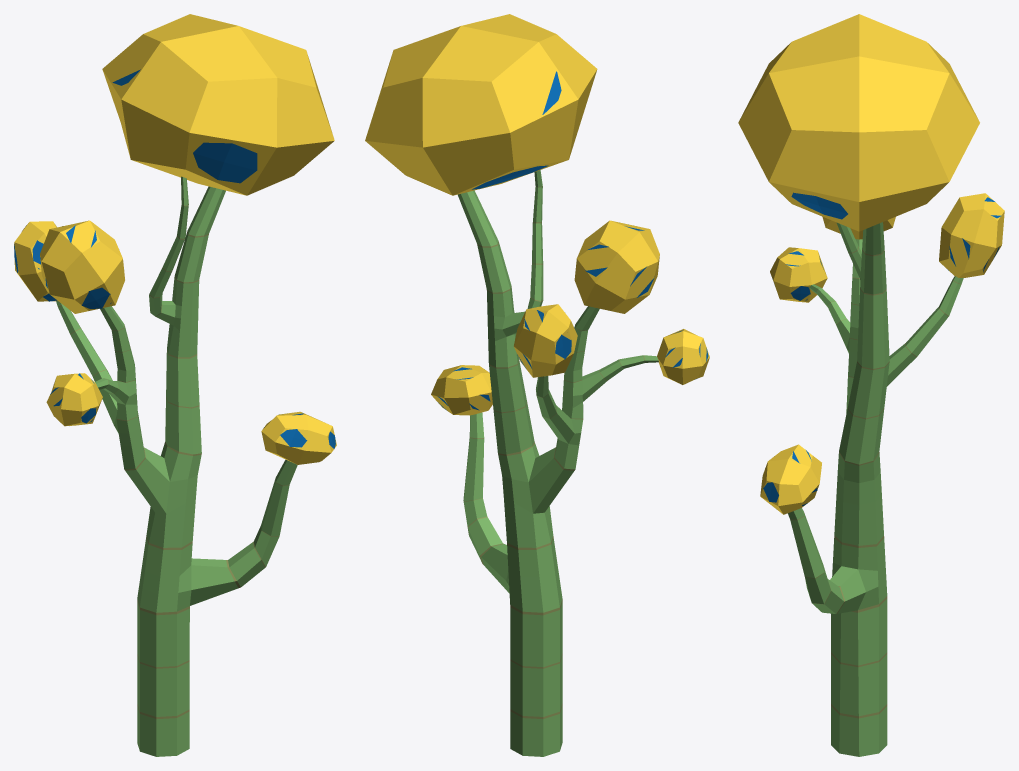
File: Tree_3.fbx
3 views of the same model, side by side, from view 1: azimuth 30°, elevation 25°; view 2: azimuth 150°, elevation 25°; view 3: azimuth 270°, elevation 25° (orthographic). The views are drawn at different scales.
Visible parts, largest first — view 1: Tree_3; view 2: Tree_3; view 3: Tree_3.
Boxes of the visible parts, x1,y1,x2,y2 form: Tree_3: [14, 14, 336, 756]; Tree_3: [365, 14, 709, 756]; Tree_3: [738, 14, 1004, 756].
Bounding box in the file's own units: 335 × 254 × 767.
